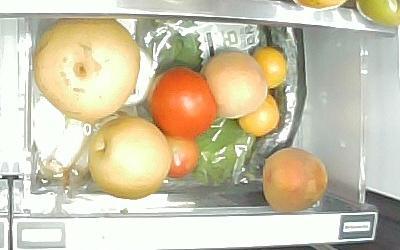peach: (200, 49, 269, 121), (261, 146, 329, 214)
pear: (32, 17, 141, 125), (87, 116, 172, 200)
tangerine: (236, 93, 281, 138), (250, 44, 288, 90)
tomato: (146, 66, 218, 141), (161, 137, 201, 178)
